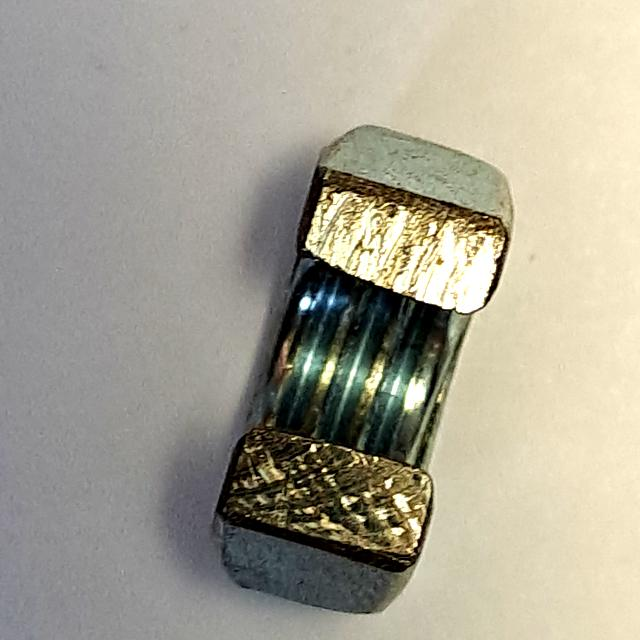Side-Fracture: (194, 113, 521, 624)
